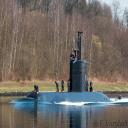submarine: (9, 32, 117, 103)
